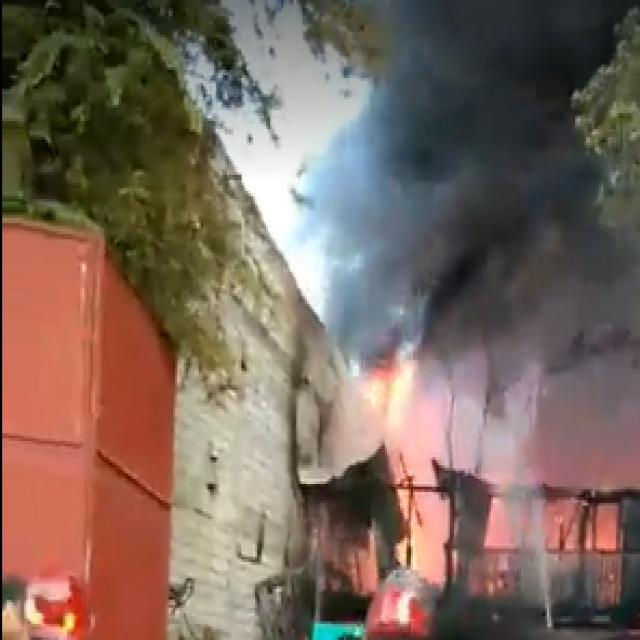Fire: (544, 496, 628, 571)
Smoke: (336, 133, 640, 456), (368, 6, 612, 109)
